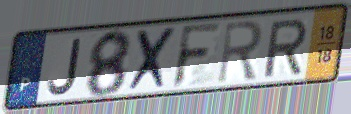8: (86, 27, 134, 100)
F: (170, 20, 224, 91)
J: (46, 36, 82, 97)
R: (215, 18, 265, 86), (261, 16, 310, 80)
X: (125, 24, 181, 94)
